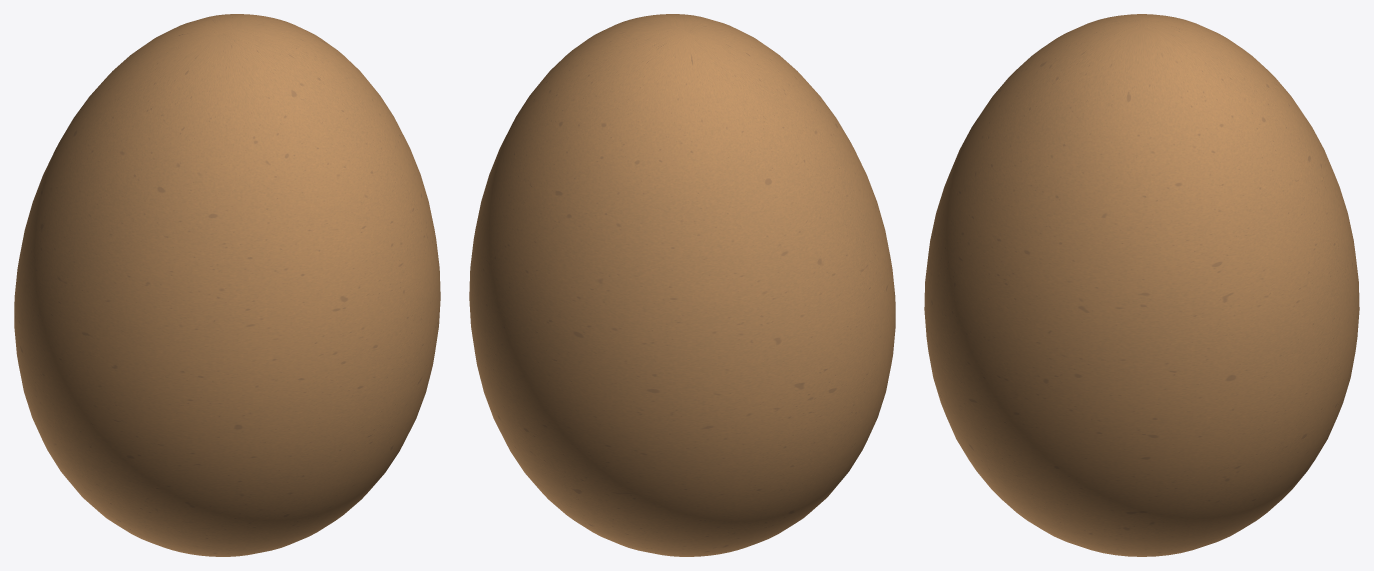
The model's file is egg-v6.glb.
3 views of the same model, side by side, from view 1: azimuth 30°, elevation 25°; view 2: azimuth 150°, elevation 25°; view 3: azimuth 270°, elevation 25° (orthographic). The views are drawn at different scales.
Parts seen in each view (by area): view 1: Chicken egg (brown shell); view 2: Chicken egg (brown shell); view 3: Chicken egg (brown shell).
Boxes of the visible parts, x1,y1,x2,y2 form: Chicken egg (brown shell): (14,14,440,556); Chicken egg (brown shell): (469,14,895,556); Chicken egg (brown shell): (924,14,1359,556).
Bounding box in the file's own units: 0.7622 × 1 × 0.7603.
Materials: 1 (1 with a texture image).
